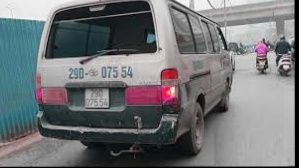Bien-so: (82, 92, 107, 114), (273, 75, 281, 81)
